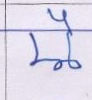ai_matra: (47, 10, 76, 29)
